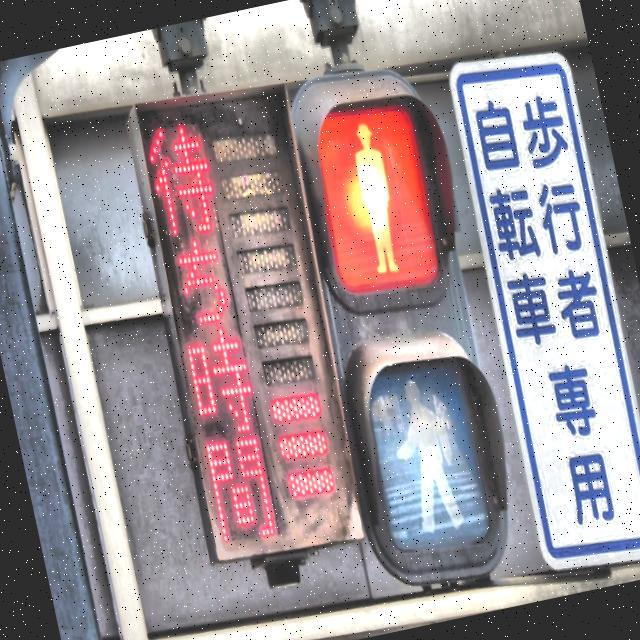red_light: (343, 117, 408, 280)
